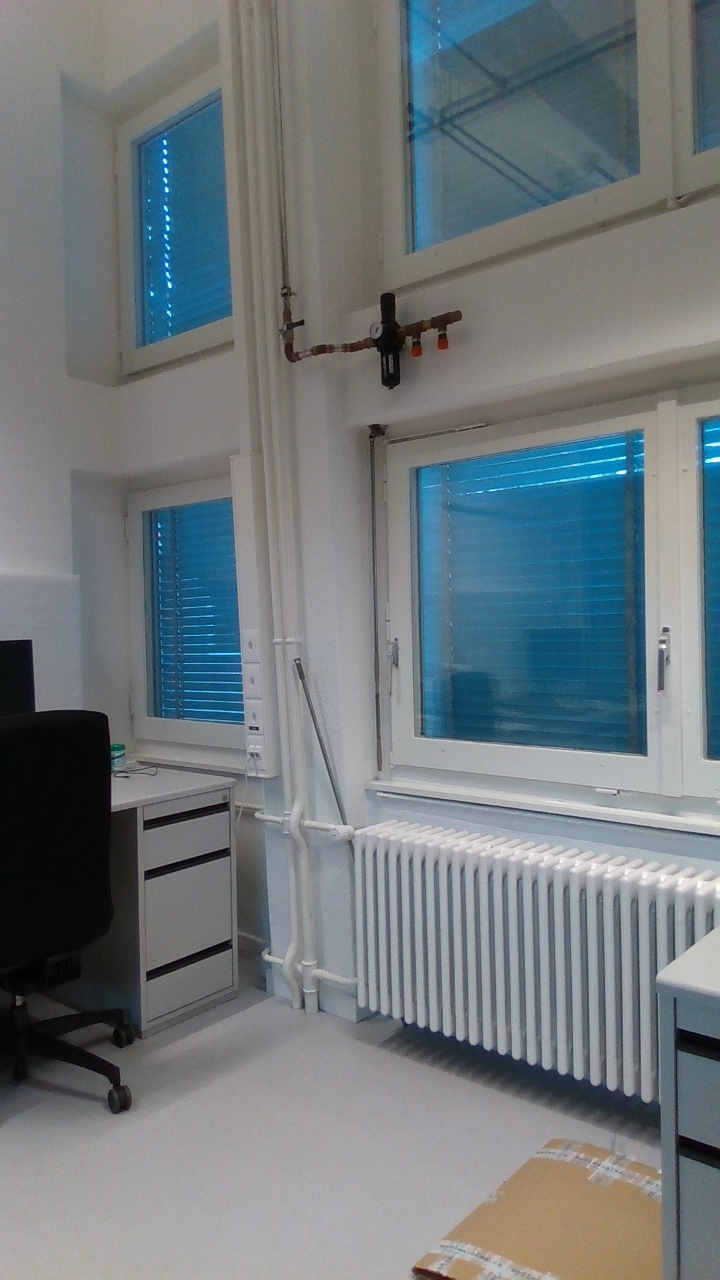Knob_Radiator: (325, 819, 356, 849)
Radiator: (349, 815, 650, 1114)
